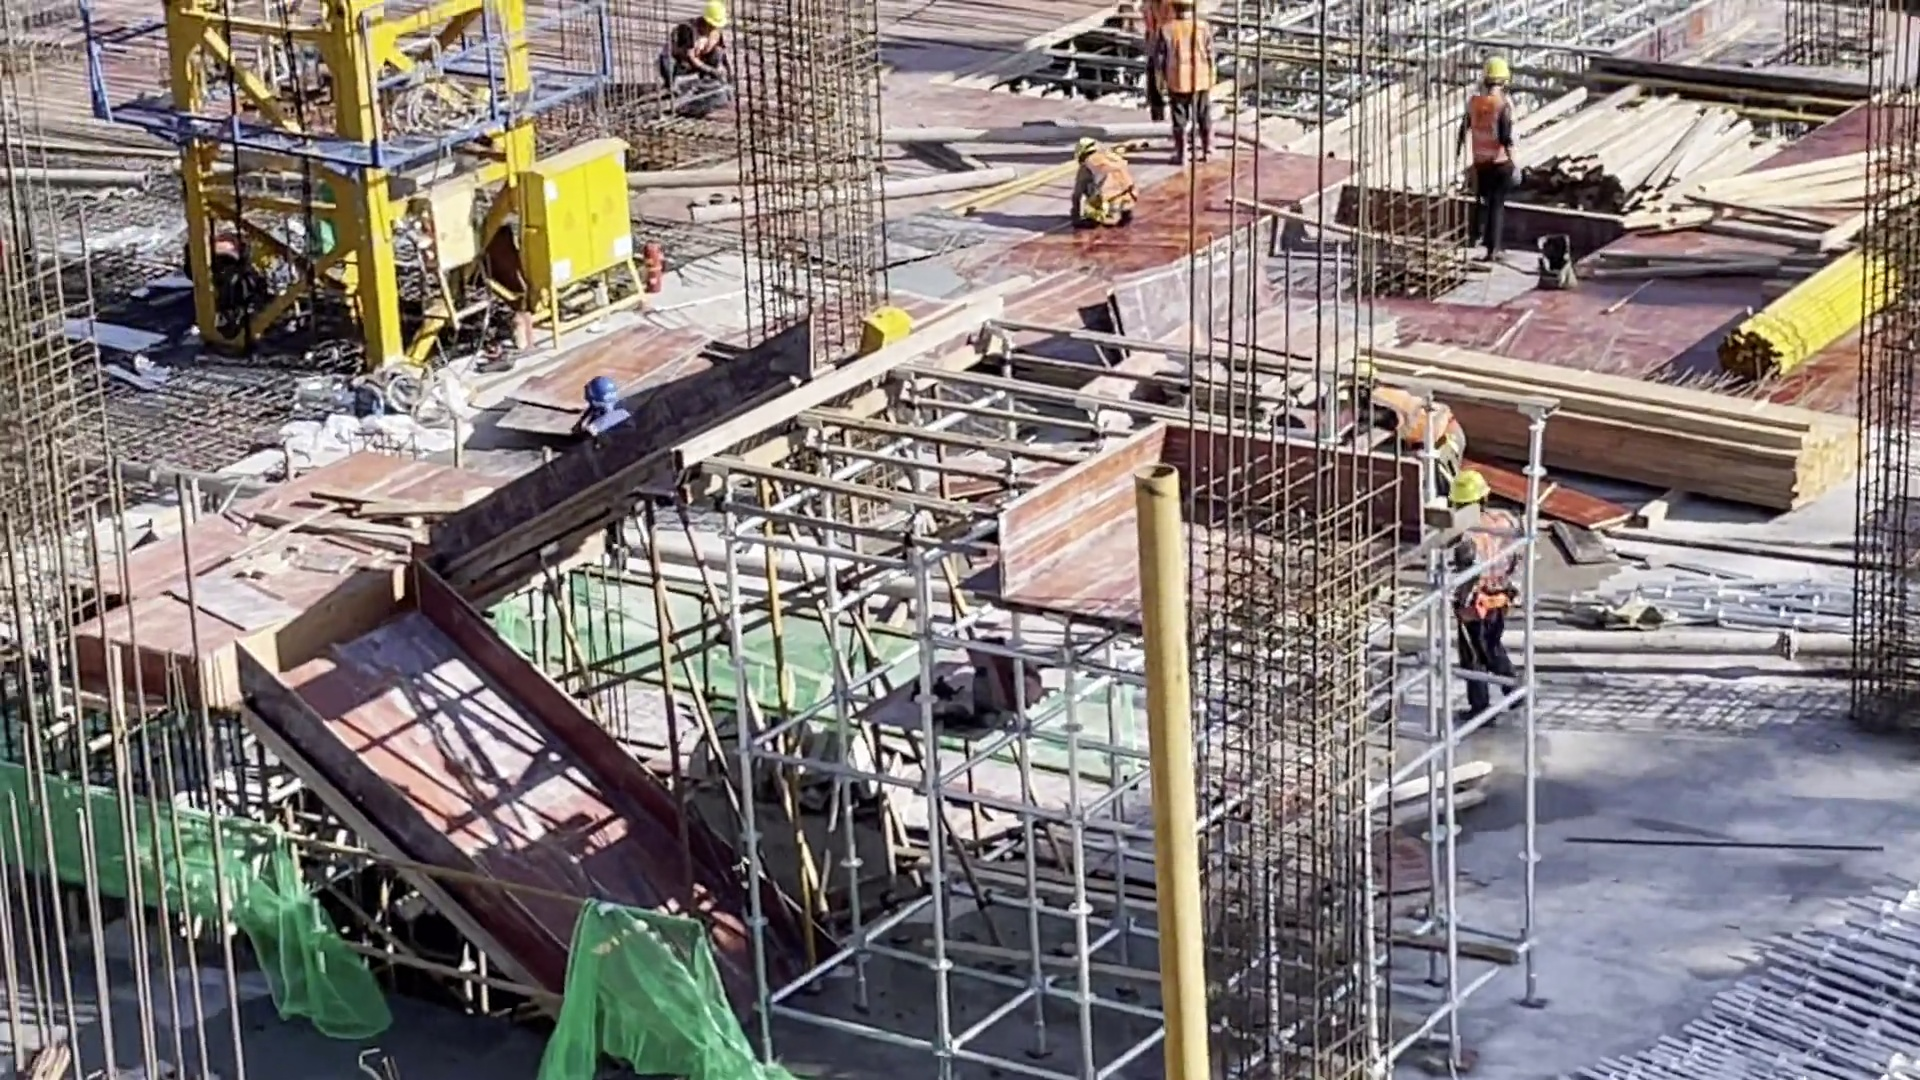ebox: (512, 139, 649, 343), (420, 172, 492, 327), (862, 306, 912, 356)
helmet: (1472, 52, 1517, 85), (1448, 471, 1493, 503), (581, 376, 617, 412), (698, 2, 731, 35), (1070, 133, 1099, 155)
person: (1437, 467, 1533, 722), (1452, 54, 1519, 271), (1339, 364, 1457, 470), (1162, 1, 1224, 162), (653, 1, 728, 89), (562, 370, 633, 462), (1072, 130, 1137, 227)
scaffold: (1555, 874, 1920, 1080)
vest: (1454, 513, 1522, 624), (1367, 389, 1453, 452), (1464, 88, 1511, 194), (1164, 20, 1216, 97), (1083, 152, 1138, 216), (658, 24, 720, 77)
wood: (1367, 330, 1857, 513), (1546, 89, 1876, 251)
